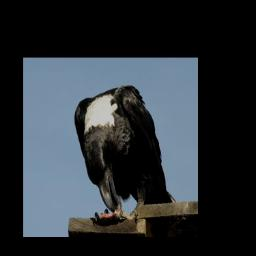Crow: (73, 81, 177, 224)
